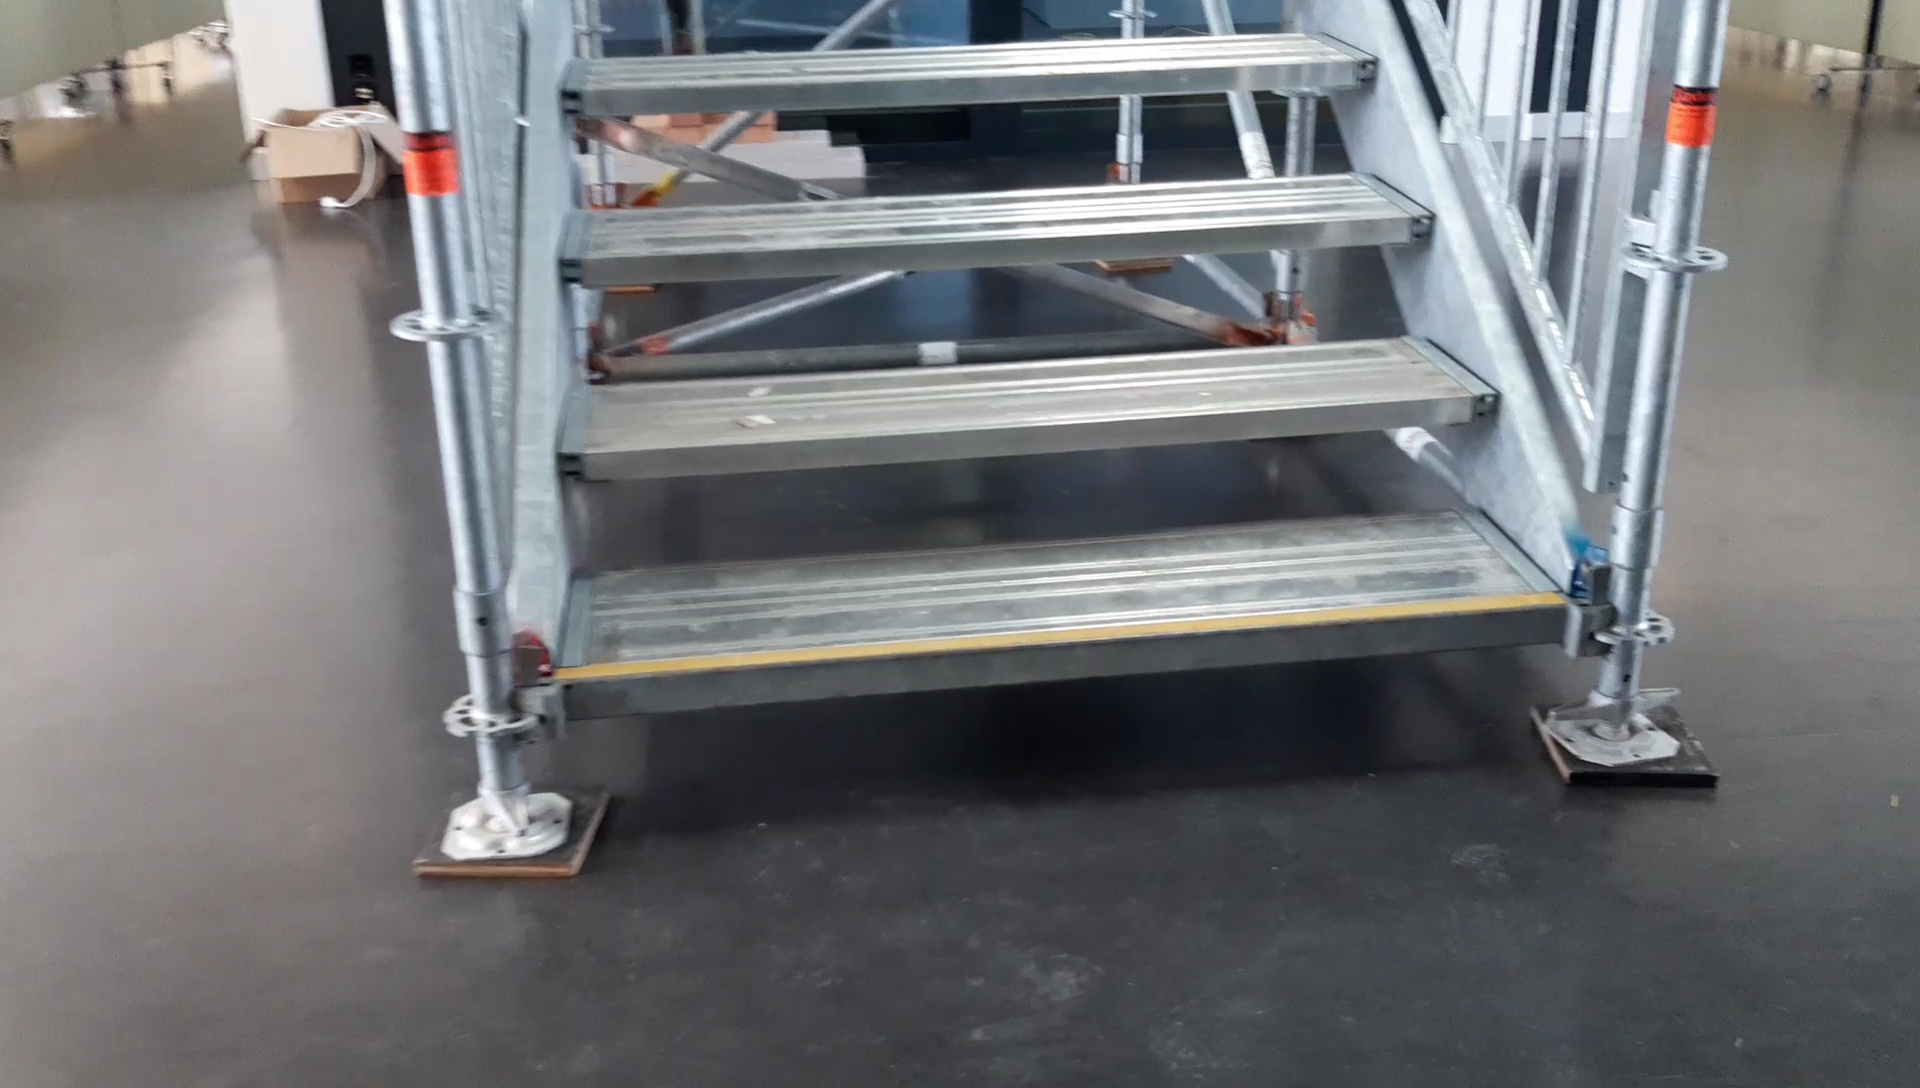brick: (829, 148, 860, 175), (793, 129, 824, 153), (795, 154, 824, 178)
edge: (566, 601, 1571, 717), (555, 390, 1498, 479), (558, 215, 1437, 284), (560, 55, 1378, 113)
stairs: (390, 3, 1724, 876)
